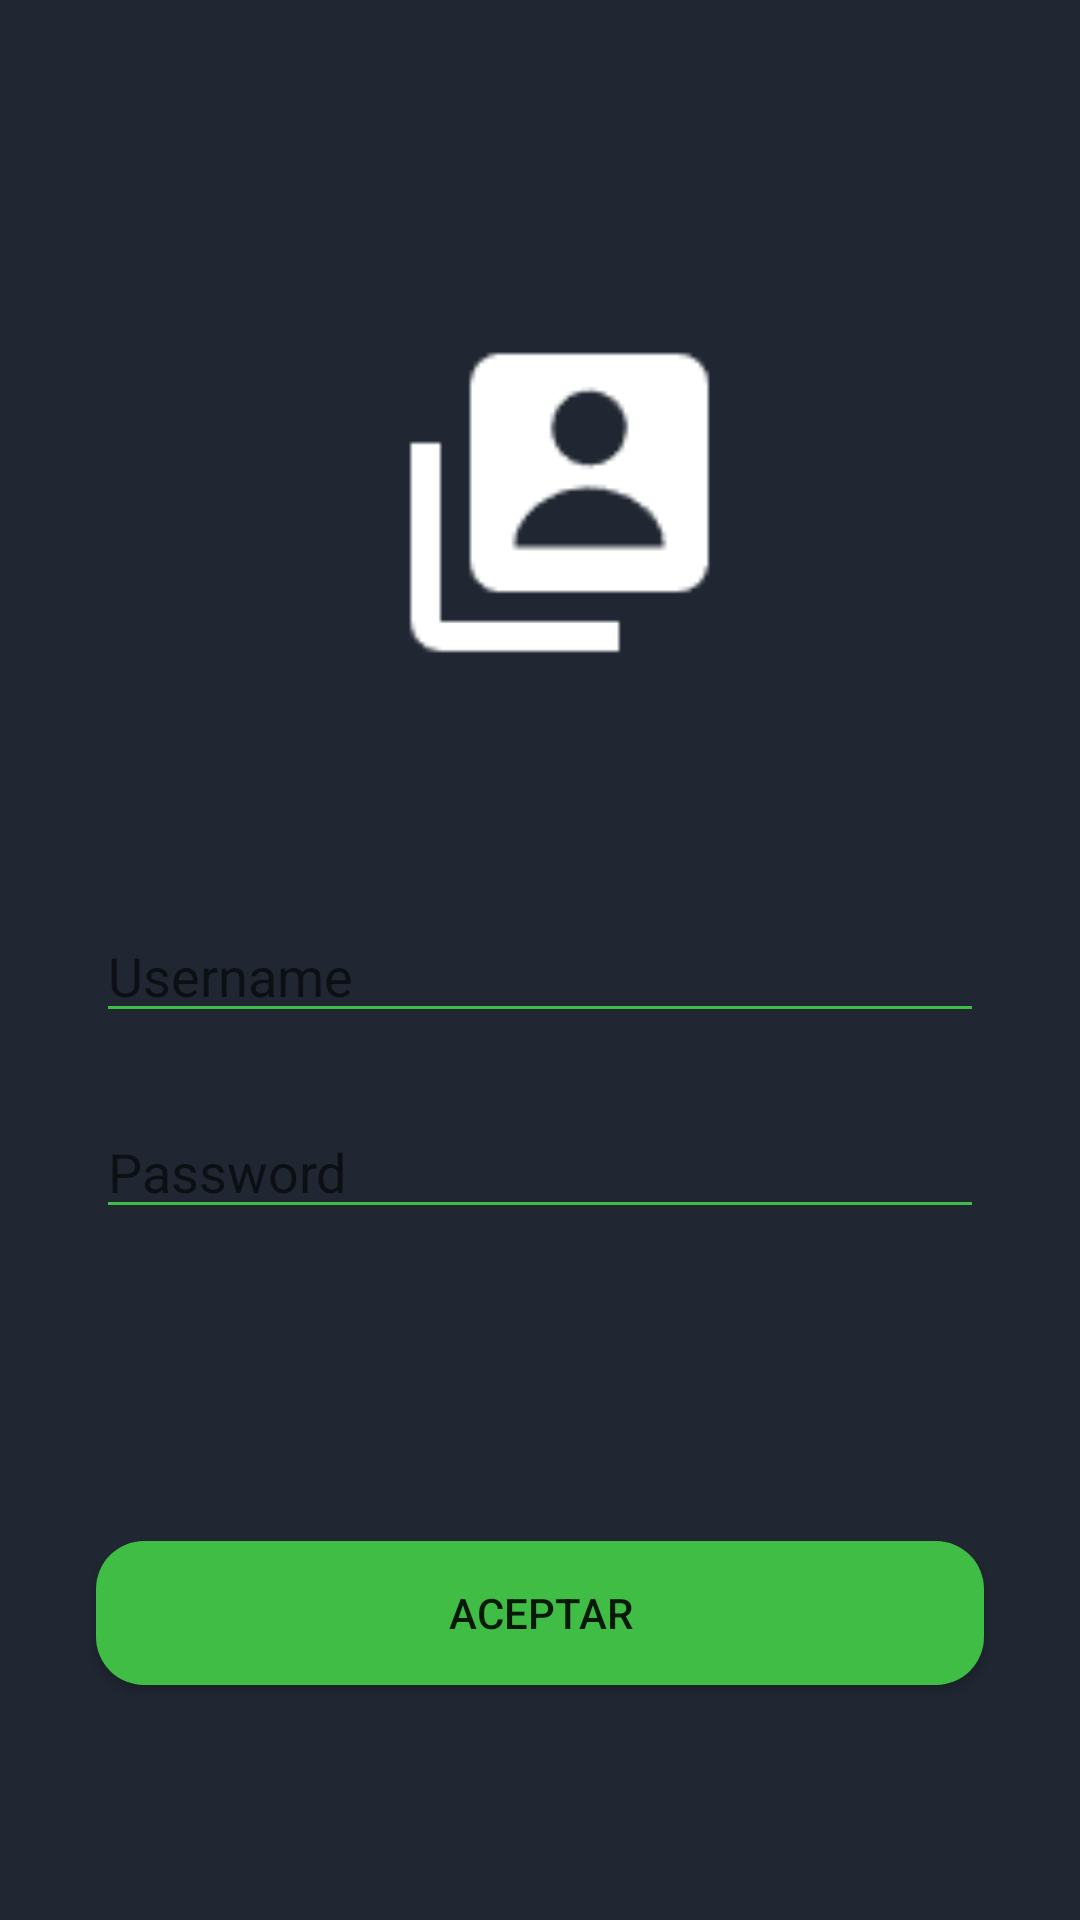

Where icons sit on this 1080px×1920px app screen, as (left=x1, top=y1, right=x2, bottom=y2):
login: (left=409, top=352, right=710, bottom=653)
